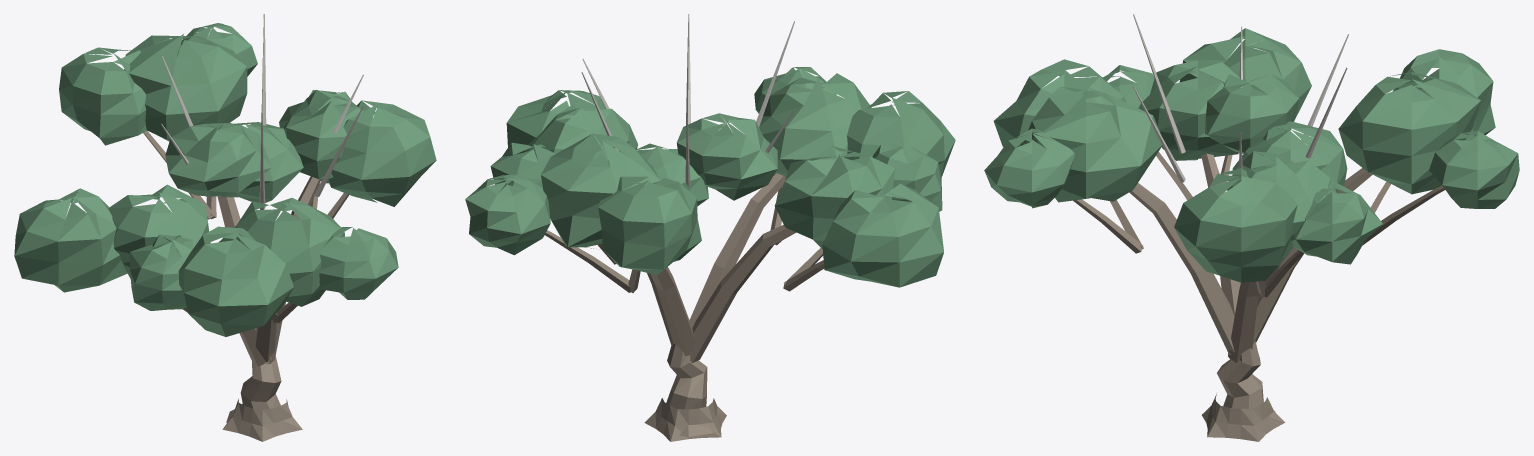
File: temperate-forest-ecology-english-oak-veteran-895182f9__3778.glb
3 renders of one model, left to right at view 1: azimuth 30°, elevation 25°; view 2: azimuth 150°, elevation 25°; view 3: azimuth 270°, elevation 25°, orthographic. The views are drawn at different scales.
Parts seen in each view (by area): view 1: english-oak-veteran; view 2: english-oak-veteran; view 3: english-oak-veteran.
Part boxes in pixels (x1,y1,x2,y2): english-oak-veteran: (14, 14, 436, 441); english-oak-veteran: (465, 14, 955, 441); english-oak-veteran: (984, 14, 1519, 441).
Bounding box in the file's own units: 16.62 × 14.19 × 17.7.
